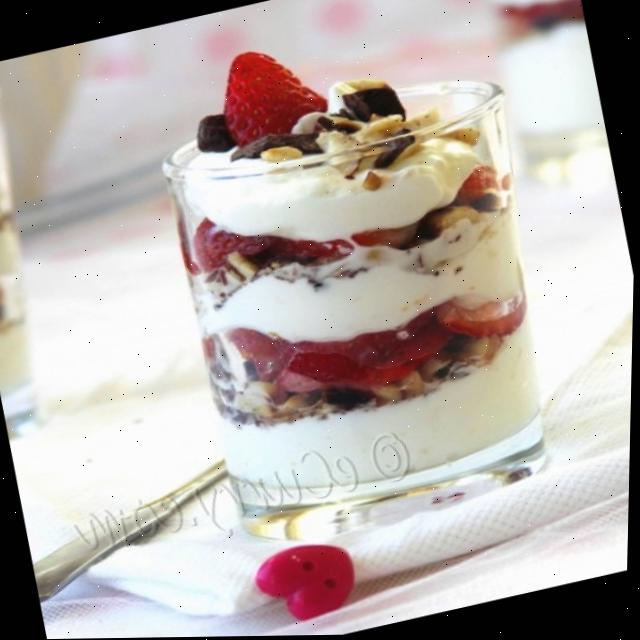蛋糕甜品: (126, 0, 602, 553)
